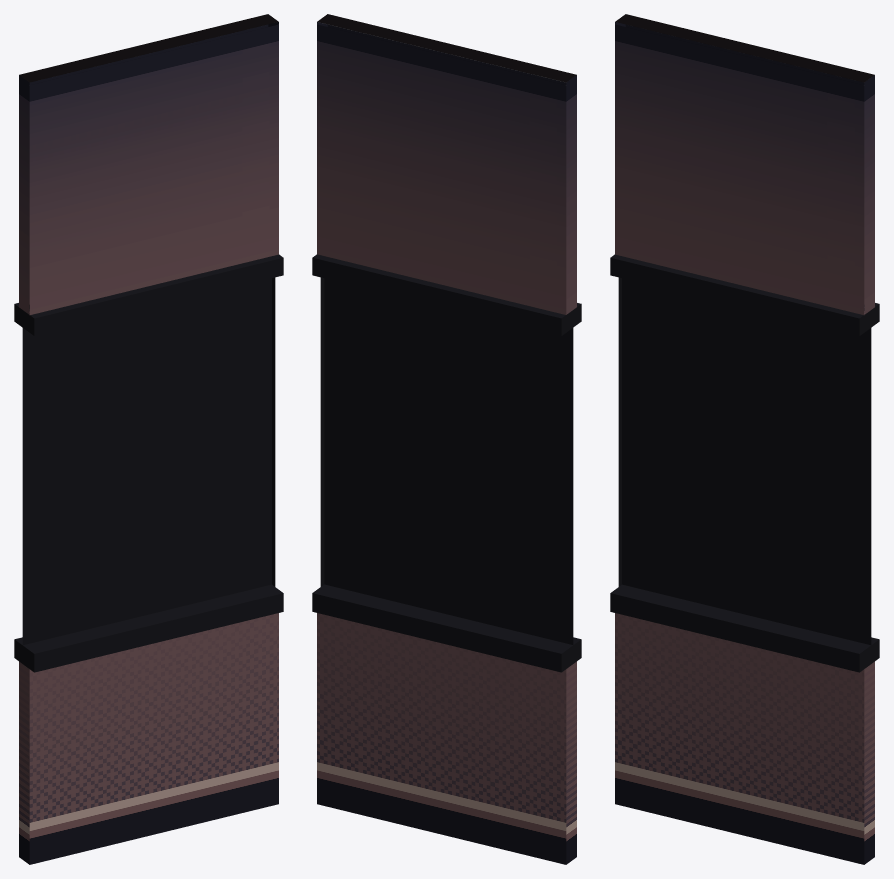
The model's file is Mid Wall.fbx.
3 views of the same model, side by side, from view 1: azimuth 30°, elevation 25°; view 2: azimuth 150°, elevation 25°; view 3: azimuth 330°, elevation 25° (orthographic).
Parts seen in each view (by area): view 1: mid wall, glass, border; view 2: mid wall, glass, border; view 3: mid wall, glass, border.
Boxes of the visible parts, x1=… form: mid wall: x1=19, y1=14, x2=278, y2=864; glass: x1=22, y1=277, x2=275, y2=645; border: x1=14, y1=254, x2=283, y2=672; mid wall: x1=317, y1=14, x2=576, y2=864; glass: x1=320, y1=277, x2=573, y2=644; border: x1=312, y1=254, x2=581, y2=672; mid wall: x1=615, y1=14, x2=874, y2=864; glass: x1=618, y1=277, x2=871, y2=645; border: x1=610, y1=254, x2=879, y2=672.
Size of the model in its own units: 200 by 600 by 27.77.
Materials: 3 (1 with a texture image).
